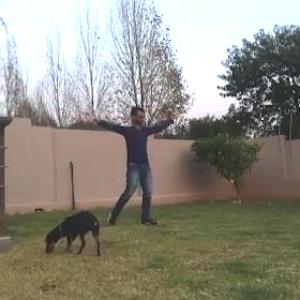takeoff: (53, 103, 172, 238)
